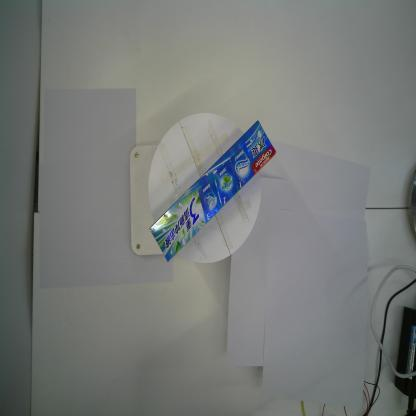Personal Hygiene: (148, 119, 278, 262)
